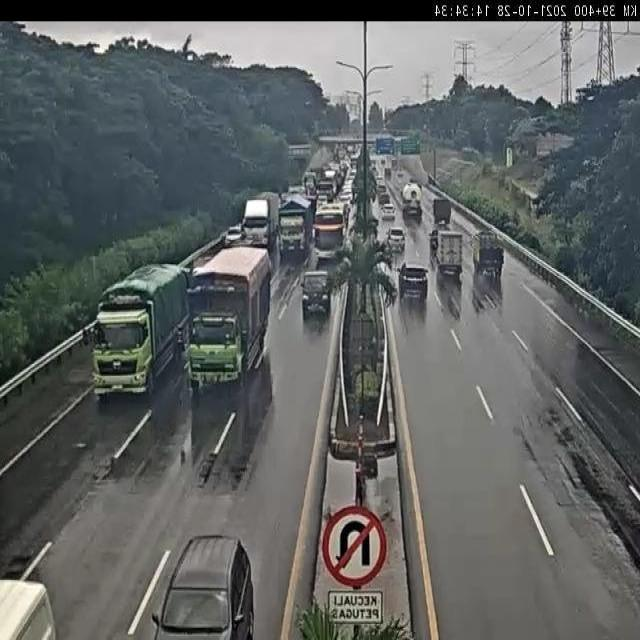Car: (152, 534, 254, 636), (1, 577, 55, 639), (300, 270, 331, 319), (398, 262, 429, 306), (387, 228, 405, 254)
Truck: (90, 263, 191, 402), (173, 257, 273, 393), (93, 352, 188, 466), (192, 355, 272, 485), (347, 294, 381, 402), (277, 192, 315, 261), (243, 191, 281, 255), (312, 203, 348, 261), (471, 231, 505, 281), (432, 230, 462, 279), (472, 270, 503, 315), (436, 271, 462, 320), (536, 133, 575, 161), (400, 290, 428, 328), (295, 187, 318, 229), (372, 260, 393, 304), (287, 143, 313, 178), (3, 553, 35, 580), (442, 156, 477, 179), (402, 181, 422, 218), (356, 451, 378, 482), (334, 254, 352, 290), (375, 237, 394, 266), (433, 198, 451, 226), (522, 189, 540, 217), (325, 135, 362, 148), (225, 224, 245, 247), (517, 137, 537, 159), (339, 200, 352, 232), (365, 214, 379, 243), (373, 158, 386, 186), (388, 248, 402, 274), (470, 235, 481, 268), (401, 135, 420, 154), (376, 136, 394, 155), (304, 174, 318, 198), (472, 286, 484, 314), (324, 169, 337, 194), (337, 162, 349, 189), (82, 325, 96, 347), (380, 203, 396, 222), (181, 260, 196, 280), (377, 187, 390, 209), (179, 267, 191, 290), (288, 185, 306, 200), (288, 144, 309, 156), (376, 176, 387, 198), (427, 182, 442, 198), (339, 190, 352, 208), (328, 164, 341, 182), (340, 155, 351, 176), (394, 137, 406, 156), (318, 126, 338, 137), (461, 146, 479, 158), (280, 190, 295, 204), (350, 113, 360, 134), (502, 220, 518, 233), (537, 148, 553, 160), (350, 152, 359, 173), (369, 164, 378, 185), (437, 169, 452, 181), (317, 193, 329, 207), (413, 178, 425, 192), (490, 164, 504, 176), (348, 165, 357, 183), (430, 246, 437, 269), (392, 152, 400, 172), (324, 188, 334, 204), (371, 182, 379, 202), (384, 133, 398, 144), (386, 228, 396, 243), (431, 227, 438, 248), (369, 210, 377, 228), (368, 141, 378, 155), (428, 174, 438, 188), (335, 146, 343, 163), (346, 144, 356, 157), (185, 51, 196, 62), (354, 146, 362, 160), (384, 165, 392, 178), (278, 192, 286, 204), (304, 100, 313, 108), (379, 157, 385, 168), (396, 170, 404, 178)
